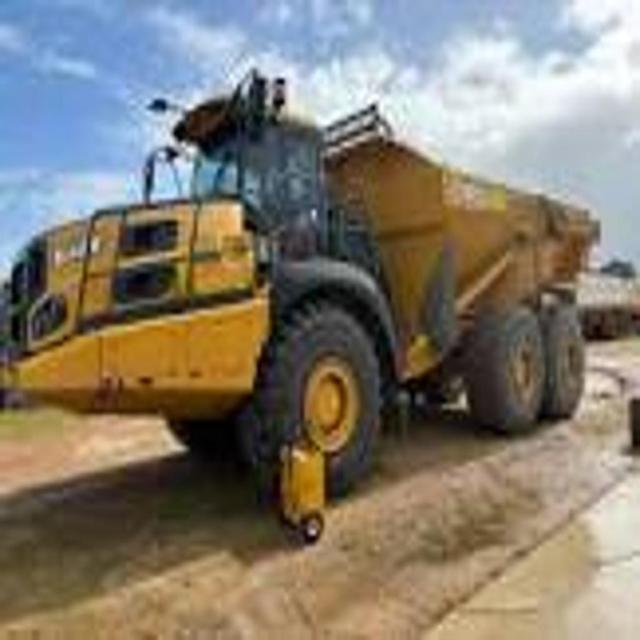dump_truck: (4, 65, 599, 540)
